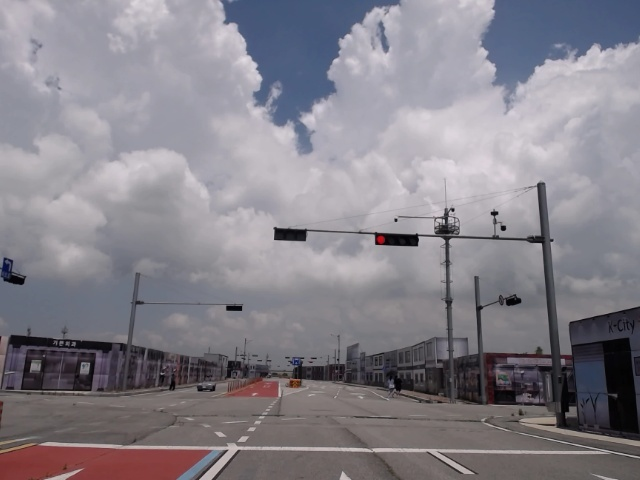red_4: (375, 234, 418, 246)
